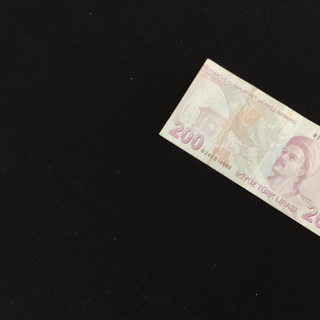200TLBack: (158, 57, 320, 246)
